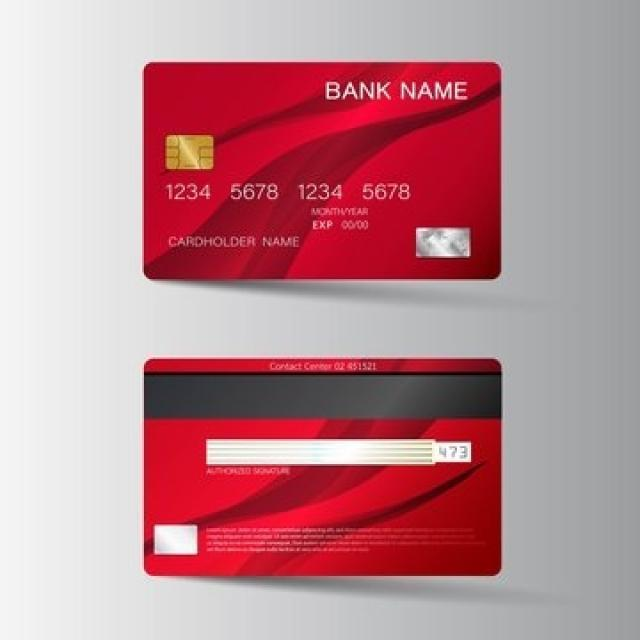payment_card: (141, 59, 503, 281), (142, 356, 503, 578)
